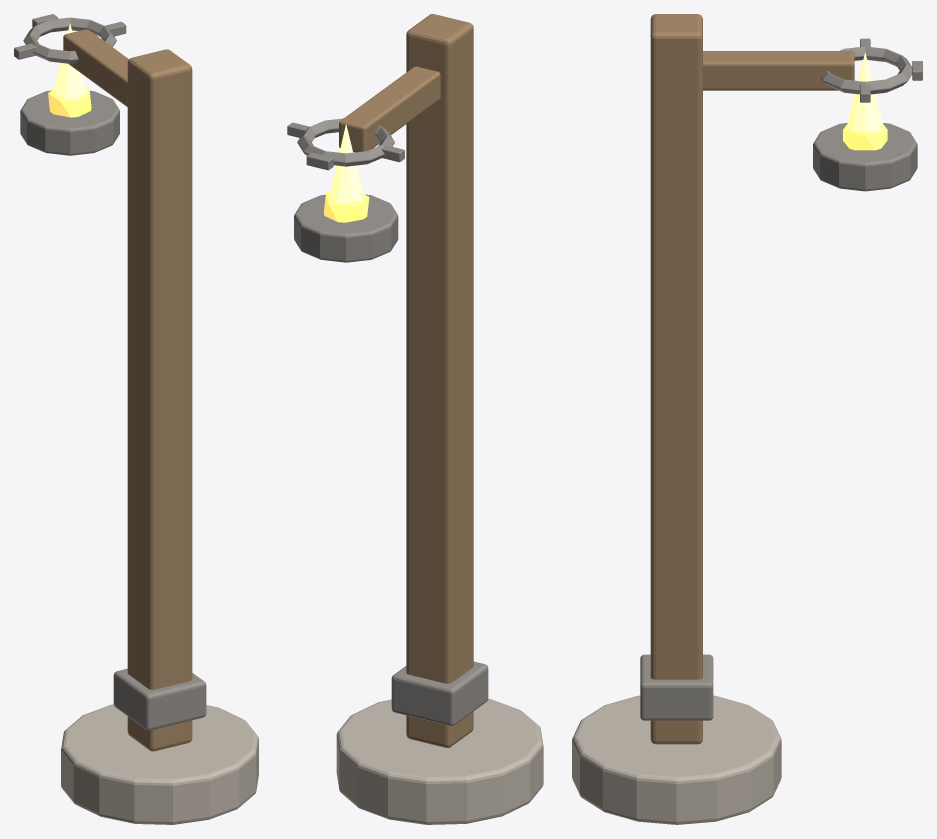
File: 40-Infraestructura_farola_fuego.glb
3 renders of one model, left to right at view 1: azimuth 30°, elevation 25°; view 2: azimuth 150°, elevation 25°; view 3: azimuth 270°, elevation 25°, orthographic. The views are drawn at different scales.
Visible parts, largest first — view 1: SM_Farola_Poste, SM_Farola_Base, SM_Farola_Brasero, SM_Farola_Refuerzo, SM_Farola_Brazo, SM_Farola_Aro, SM_Farola_Llama, SM_Farola_Brasa; view 2: SM_Farola_Poste, SM_Farola_Base, SM_Farola_Brasero, SM_Farola_Brazo, SM_Farola_Refuerzo, SM_Farola_Aro, SM_Farola_Llama, SM_Farola_Brasa; view 3: SM_Farola_Poste, SM_Farola_Base, SM_Farola_Brazo, SM_Farola_Brasero, SM_Farola_Refuerzo, SM_Farola_Aro, SM_Farola_Llama, SM_Farola_Brasa.
Part boxes in pixels (x1,y1,x2,y2): SM_Farola_Poste: [127, 49, 192, 751]; SM_Farola_Base: [61, 704, 258, 824]; SM_Farola_Brasero: [20, 90, 119, 155]; SM_Farola_Refuerzo: [113, 668, 206, 730]; SM_Farola_Brazo: [63, 29, 128, 106]; SM_Farola_Aro: [23, 17, 116, 63]; SM_Farola_Llama: [54, 23, 86, 98]; SM_Farola_Brasa: [48, 87, 91, 117]; SM_Farola_Poste: [406, 14, 473, 747]; SM_Farola_Base: [336, 699, 543, 824]; SM_Farola_Brasero: [294, 194, 398, 262]; SM_Farola_Brazo: [339, 66, 440, 152]; SM_Farola_Refuerzo: [391, 661, 488, 726]; SM_Farola_Aro: [297, 118, 394, 166]; SM_Farola_Llama: [329, 124, 362, 203]; SM_Farola_Brasa: [323, 191, 369, 222]; SM_Farola_Poste: [650, 14, 702, 744]; SM_Farola_Base: [572, 695, 781, 824]; SM_Farola_Brazo: [703, 51, 854, 90]; SM_Farola_Brasero: [813, 123, 917, 191]; SM_Farola_Refuerzo: [640, 654, 713, 720]; SM_Farola_Aro: [820, 46, 912, 94]; SM_Farola_Llama: [847, 52, 882, 131]; SM_Farola_Brasa: [843, 124, 887, 150].
Size of the model in its own units: 0.4 by 1.6 by 0.67.
